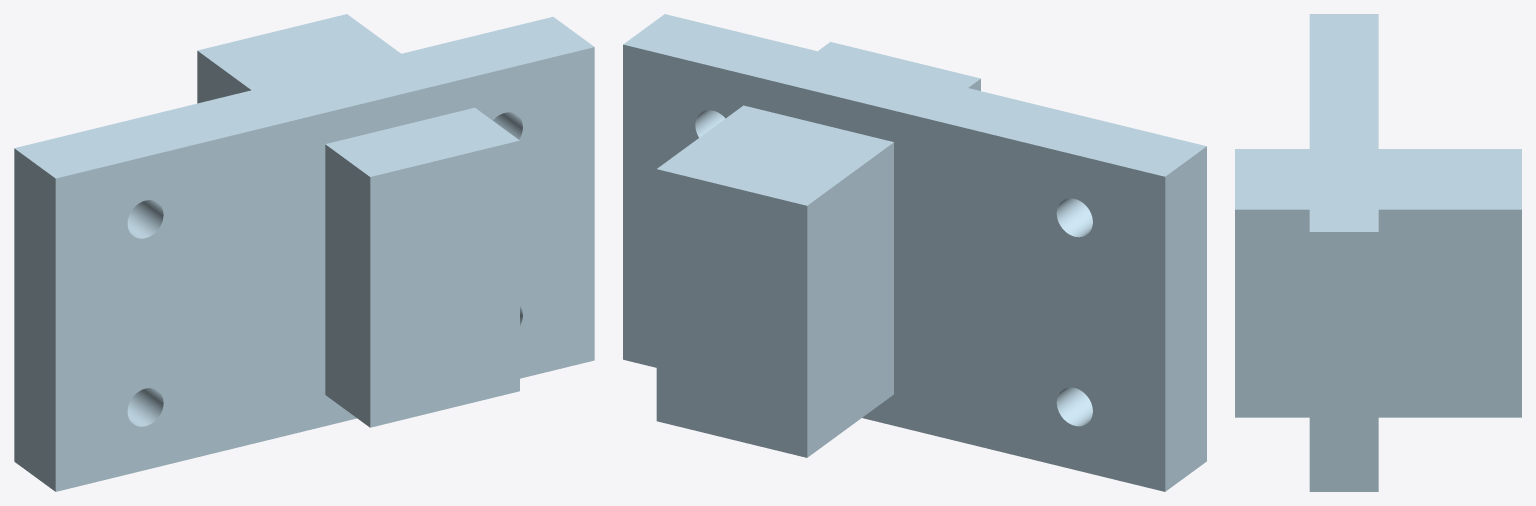
3 renders of one model, left to right at view 1: azimuth 30°, elevation 25°; view 2: azimuth 150°, elevation 25°; view 3: azimuth 270°, elevation 25°, orthographic. The views are drawn at different scales.
Visible parts, largest first — view 1: Part 1; view 2: Part 1; view 3: Part 1.
Part boxes in pixels (x1=…): Part 1: x1=14, y1=14, x2=594, y2=491; Part 1: x1=623, y1=14, x2=1206, y2=491; Part 1: x1=1235, y1=14, x2=1521, y2=491.
Size of the model in its own units: 0.09 by 0.05 by 0.05.
